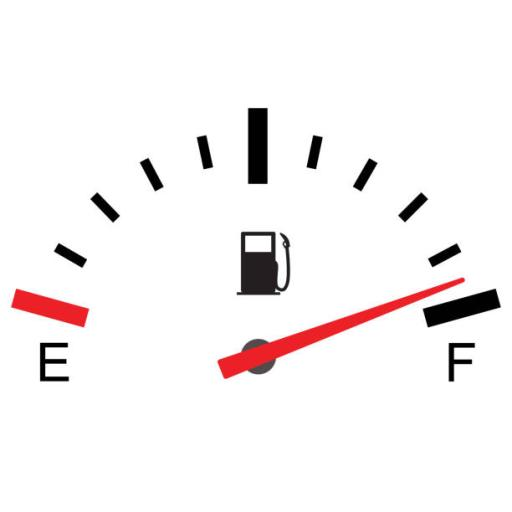empty: (35, 338, 68, 384)
fuel_icon: (234, 230, 288, 292)
full: (444, 338, 474, 384)
guage_area: (9, 100, 508, 396)
needle_center: (236, 335, 284, 377)
needle_tip: (424, 270, 471, 294)
